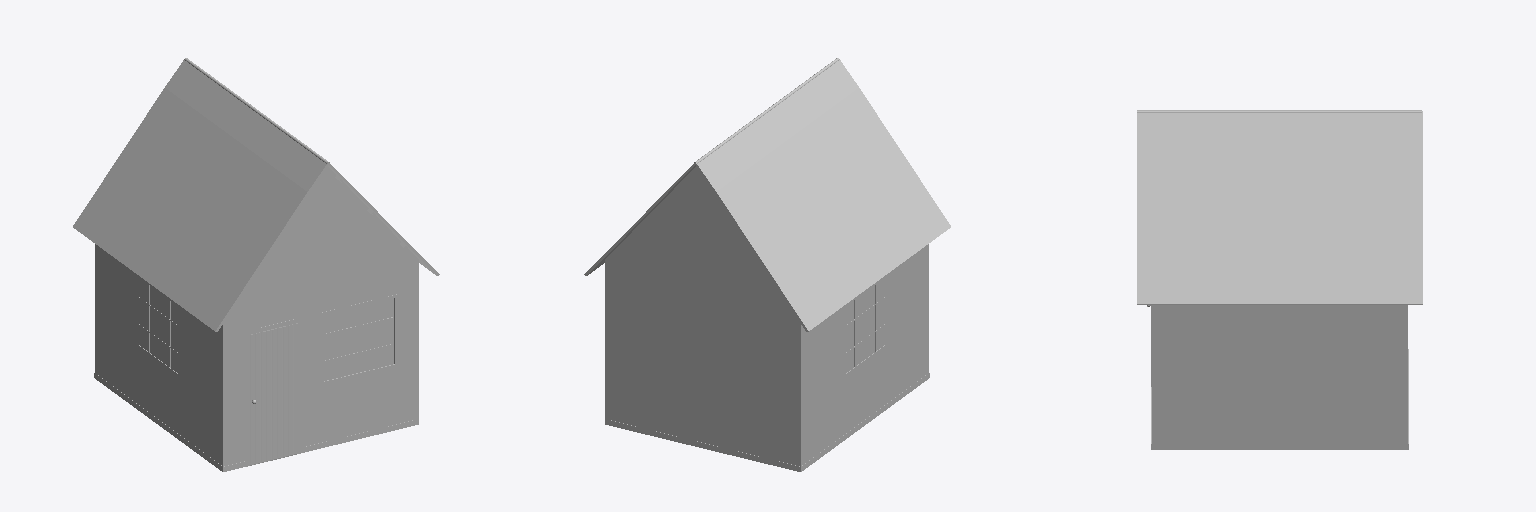
File: house.obj
3 renders of one model, left to right at view 1: azimuth 30°, elevation 25°; view 2: azimuth 150°, elevation 25°; view 3: azimuth 270°, elevation 25°, orthographic.
Visible parts, largest first — view 1: House; view 2: House; view 3: House.
Boxes of the visible parts, x1,y1,x2,y2 form: House: [73, 58, 439, 471]; House: [584, 58, 950, 471]; House: [1137, 110, 1422, 449].
Bounding box in the file's own units: 7.28 × 9.05 × 8.03.